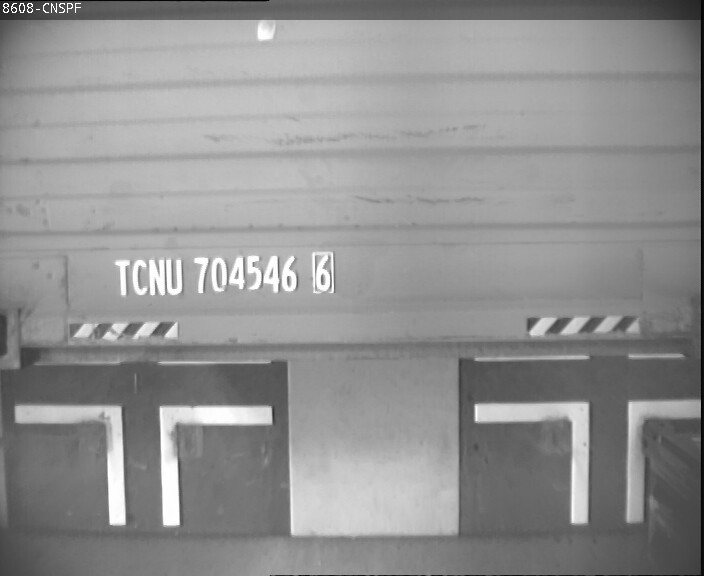groundmarker_1: (15, 403, 272, 530), (472, 403, 704, 526)
